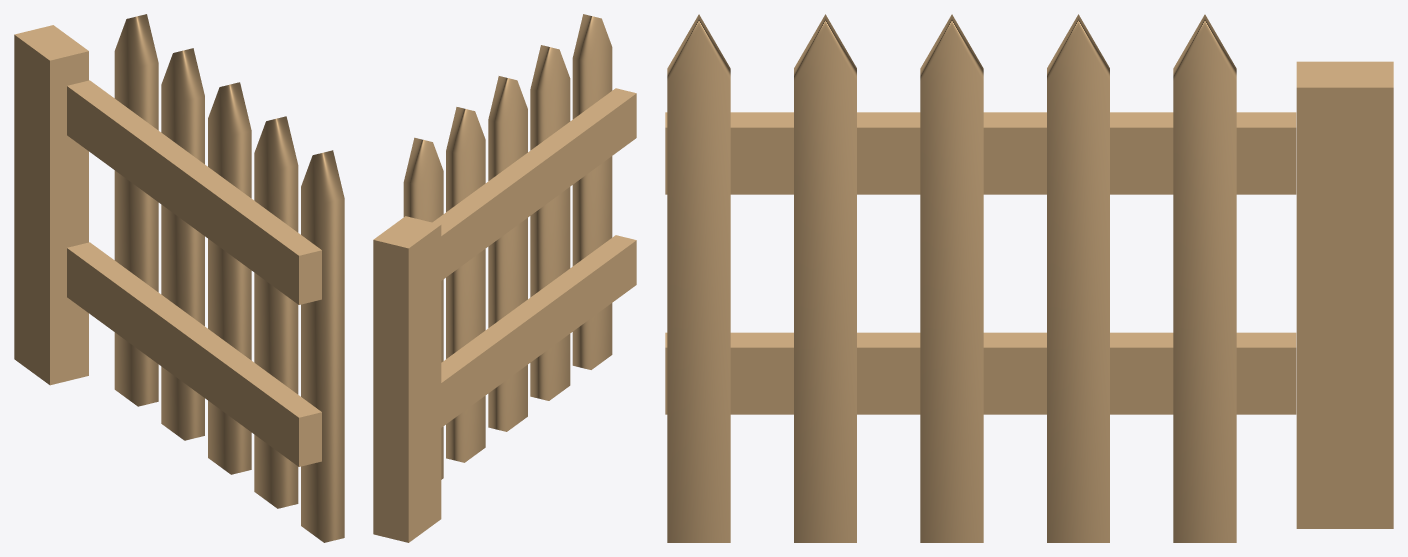
File: WoodenFence0.fbx
The picture shows the model from 3 angles, left to right: view 1: azimuth 30°, elevation 25°; view 2: azimuth 150°, elevation 25°; view 3: azimuth 270°, elevation 25°; orthographic projection. The views are drawn at different scales.
Parts seen in each view (by area): view 1: WoodenFence0_0, WoodenFence0_1, WoodenFence0_2; view 2: WoodenFence0_0, WoodenFence0_1, WoodenFence0_2; view 3: WoodenFence0_0, WoodenFence0_1, WoodenFence0_2.
Boxes of the visible parts, <box> form: WoodenFence0_0: <box>114,14,344,542</box>; WoodenFence0_1: <box>67,80,321,466</box>; WoodenFence0_2: <box>14,25,88,385</box>; WoodenFence0_0: <box>403,14,612,479</box>; WoodenFence0_1: <box>432,88,636,427</box>; WoodenFence0_2: <box>373,216,441,542</box>; WoodenFence0_0: <box>667,14,1236,542</box>; WoodenFence0_1: <box>665,112,1296,414</box>; WoodenFence0_2: <box>1296,61,1393,528</box>.
Size of the model in its own units: 49.99 by 287 by 367.
